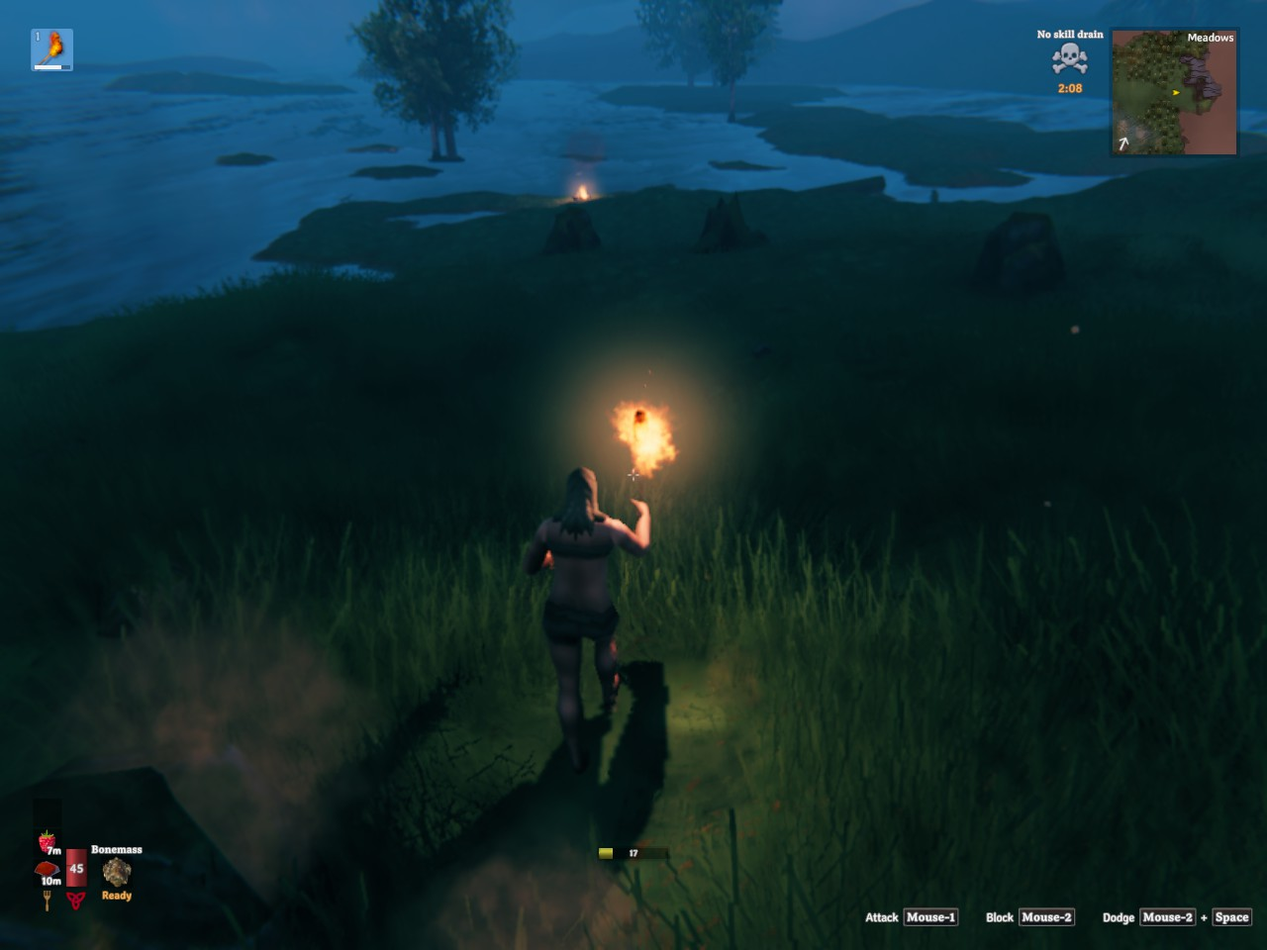Torch: (611, 400, 676, 476)
